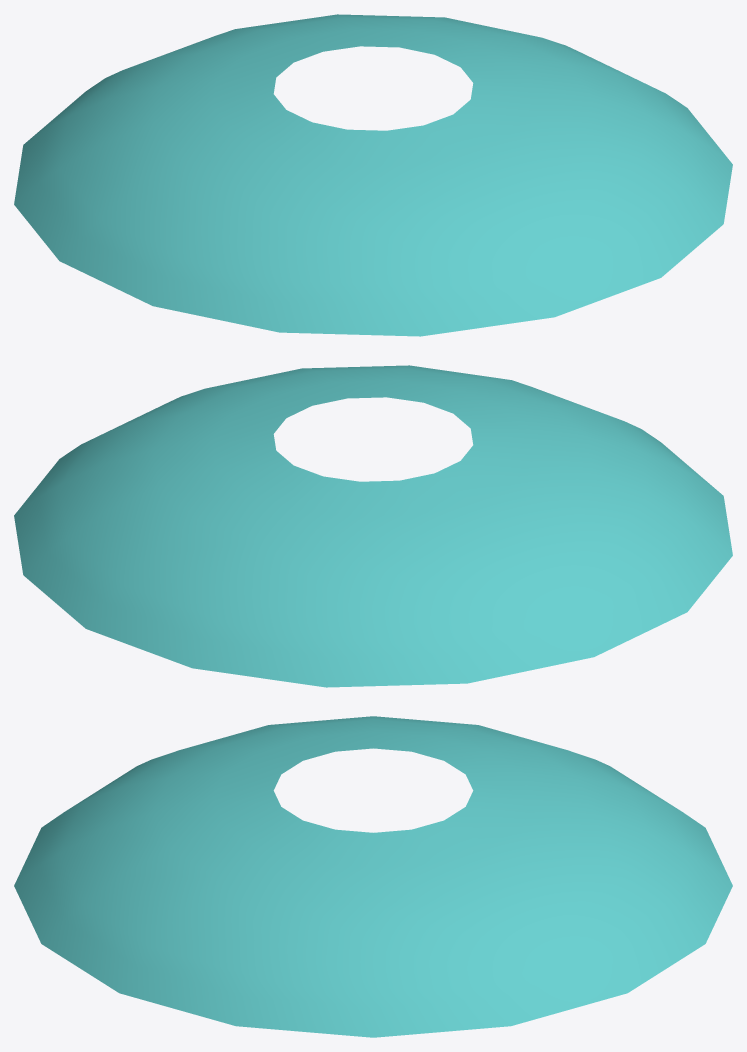
Rendered from ground_light.glb.
3 views of the same model, one above another, from view 1: azimuth 30°, elevation 25°; view 2: azimuth 150°, elevation 25°; view 3: azimuth 270°, elevation 25° (orthographic).
Visible parts, largest first — view 1: blue_light_sprite; view 2: blue_light_sprite; view 3: blue_light_sprite.
Boxes of the visible parts, x1,y1,x2,y2 form: blue_light_sprite: (14, 14, 732, 336); blue_light_sprite: (14, 365, 732, 687); blue_light_sprite: (14, 716, 732, 1037).
Size of the model in its own units: 0.4383 by 0.064 by 0.4383.
